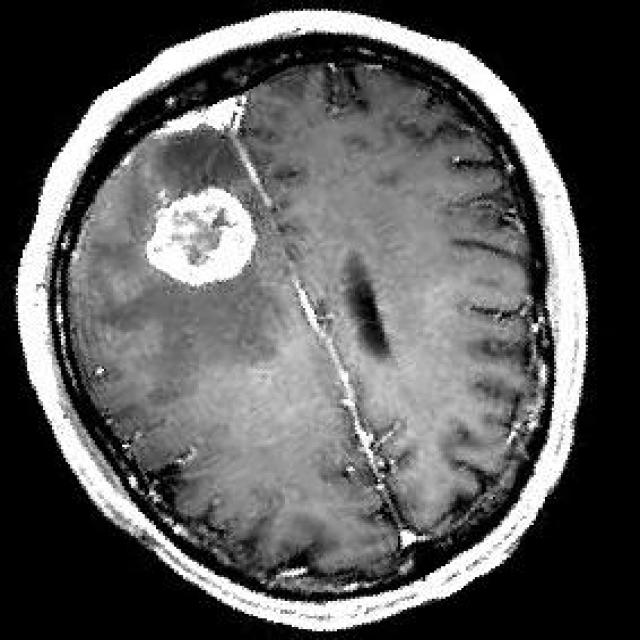Tumor-Cell: (138, 188, 252, 292)
